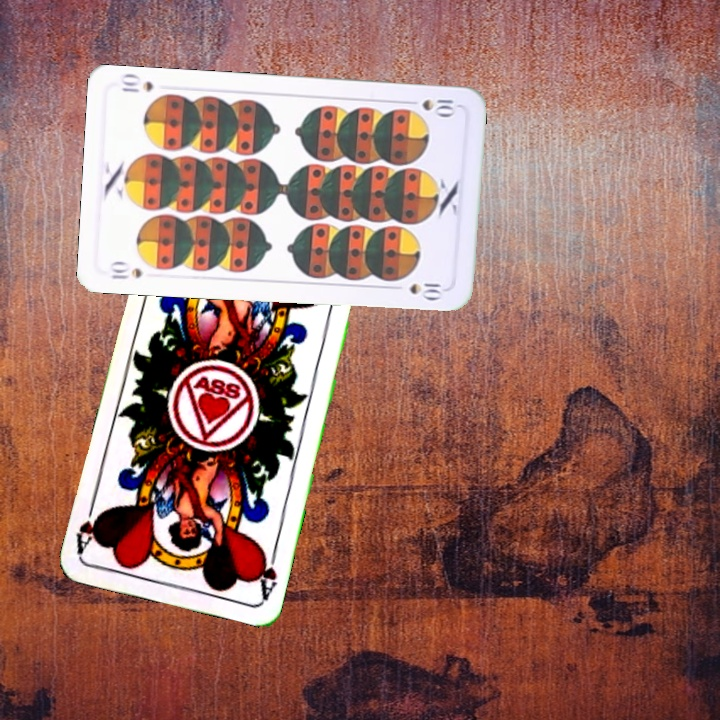HA: (252, 543, 280, 602)
S10: (401, 95, 458, 118), (106, 258, 144, 282)
